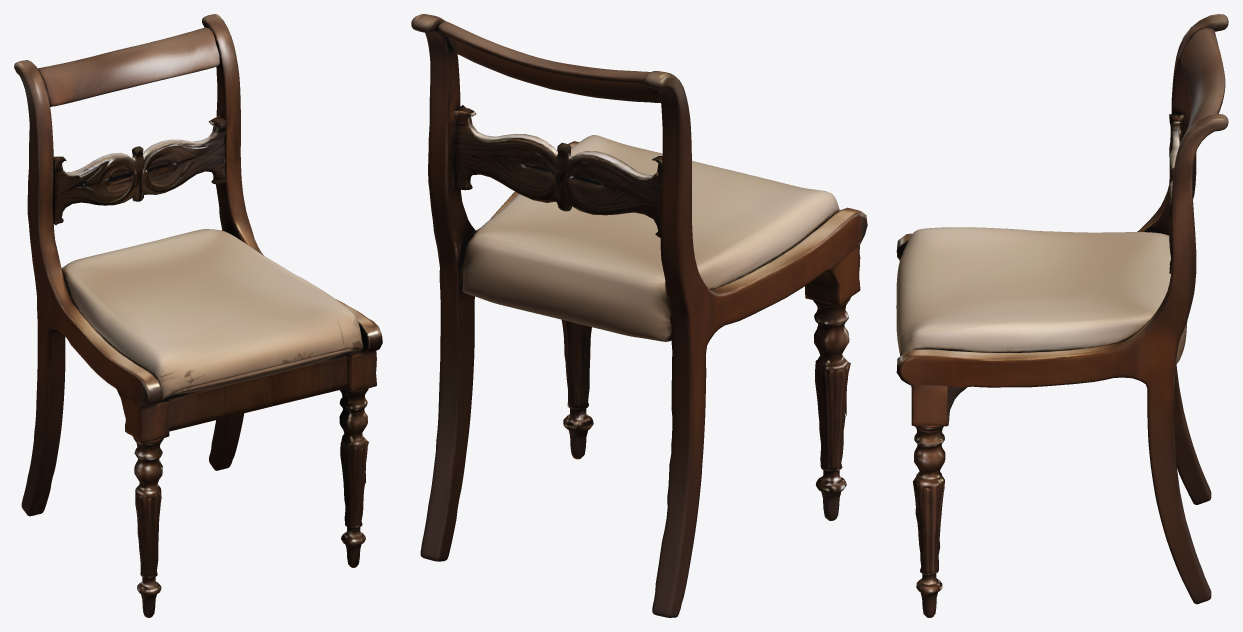
The picture shows the model from 3 angles, left to right: view 1: azimuth 30°, elevation 25°; view 2: azimuth 150°, elevation 25°; view 3: azimuth 270°, elevation 25°; orthographic projection. The views are drawn at different scales.
Parts seen in each view (by area): view 1: root.0, root.1, root.3, root.2, root.4, root.5, root.6; view 2: root.0, root.1, root.3, root.2, root.6, root.5; view 3: root.0, root.2, root.1, root.5, root.3.
Boxes of the visible parts, x1,y1,x2,y2 form: root.0: [61, 229, 363, 398]; root.1: [14, 60, 169, 516]; root.3: [37, 27, 226, 225]; root.2: [202, 14, 382, 470]; root.4: [165, 353, 347, 431]; root.5: [339, 388, 369, 567]; root.6: [133, 437, 163, 617]; root.0: [462, 135, 839, 341]; root.1: [643, 71, 867, 617]; root.3: [437, 21, 662, 237]; root.2: [411, 14, 578, 561]; root.6: [813, 297, 850, 520]; root.5: [561, 320, 593, 459]; root.0: [896, 227, 1187, 363]; root.2: [896, 114, 1228, 604]; root.1: [896, 14, 1228, 504]; root.5: [913, 426, 945, 617]; root.3: [1169, 27, 1225, 273].
Size of the model in its own units: 0.4545 by 0.84 by 0.5092.
Materials: 7 (7 with a texture image).
